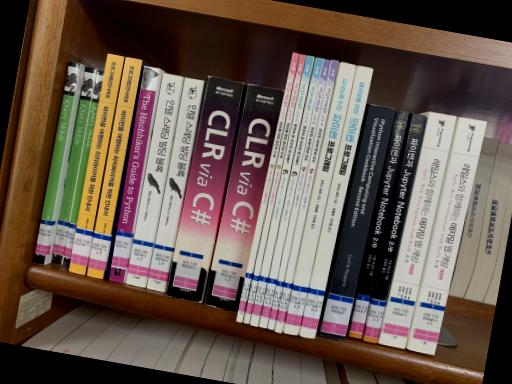book-spine: (283, 61, 356, 335), (300, 65, 373, 338), (408, 116, 488, 354), (378, 112, 458, 349), (204, 83, 284, 312), (166, 76, 246, 302), (319, 105, 395, 341), (274, 59, 339, 332), (259, 56, 323, 328), (267, 58, 331, 330), (236, 52, 300, 322), (243, 54, 307, 323), (251, 55, 314, 325), (363, 113, 427, 342), (349, 110, 409, 338), (86, 56, 142, 280), (126, 72, 184, 288), (68, 53, 124, 275), (147, 77, 204, 292), (109, 66, 160, 282), (32, 60, 80, 265), (50, 66, 96, 265), (62, 71, 104, 268)
